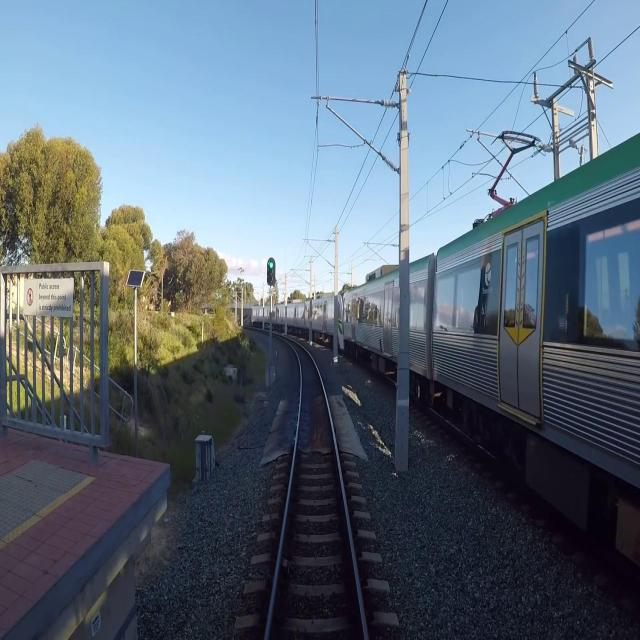rail-track: (269, 344, 363, 639)
